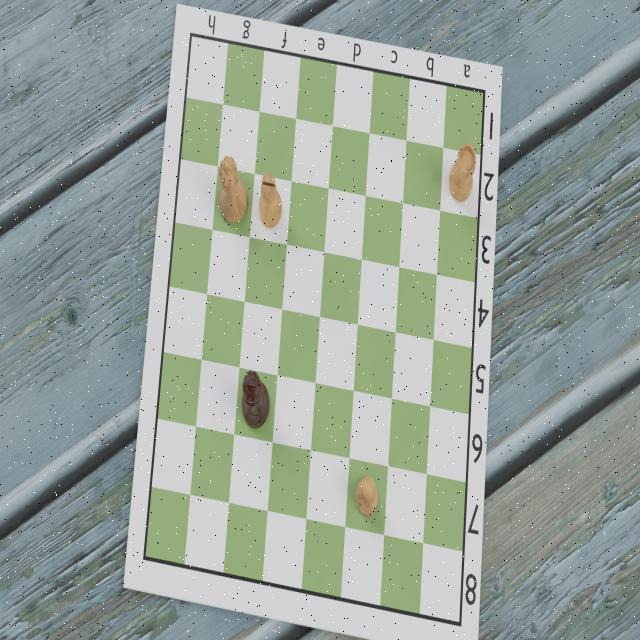black-king: (240, 367, 271, 431)
white-bishop: (256, 169, 284, 231)
white-king: (213, 150, 250, 229)
white-pawn: (355, 471, 381, 521)
white-rook: (448, 142, 478, 208)
